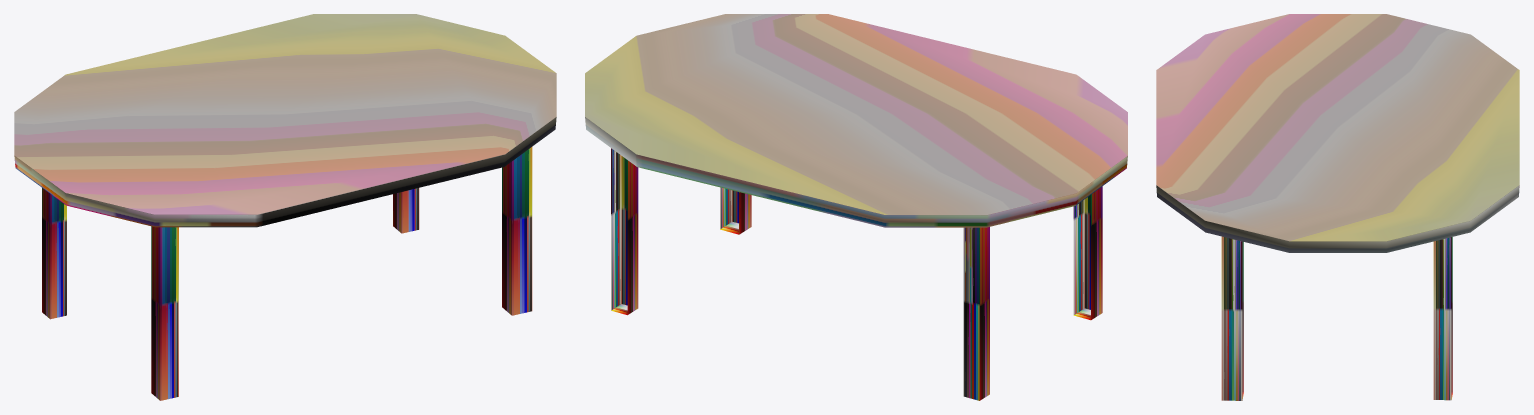
Rendered from CR_caf_table_003_Collider.FBX.
3 renders of one model, left to right at view 1: azimuth 30°, elevation 25°; view 2: azimuth 150°, elevation 25°; view 3: azimuth 270°, elevation 25°, orthographic. The views are drawn at different scales.
Parts seen in each view (by area): view 1: CR_caf_table_003_Collider; view 2: CR_caf_table_003_Collider; view 3: CR_caf_table_003_Collider.
Part boxes in pixels (<box>): CR_caf_table_003_Collider: <box>14,14,556,400</box>; CR_caf_table_003_Collider: <box>585,14,1127,400</box>; CR_caf_table_003_Collider: <box>1156,14,1519,400</box>.
Bounding box in the file's own units: 146 × 56.12 × 98.81.
